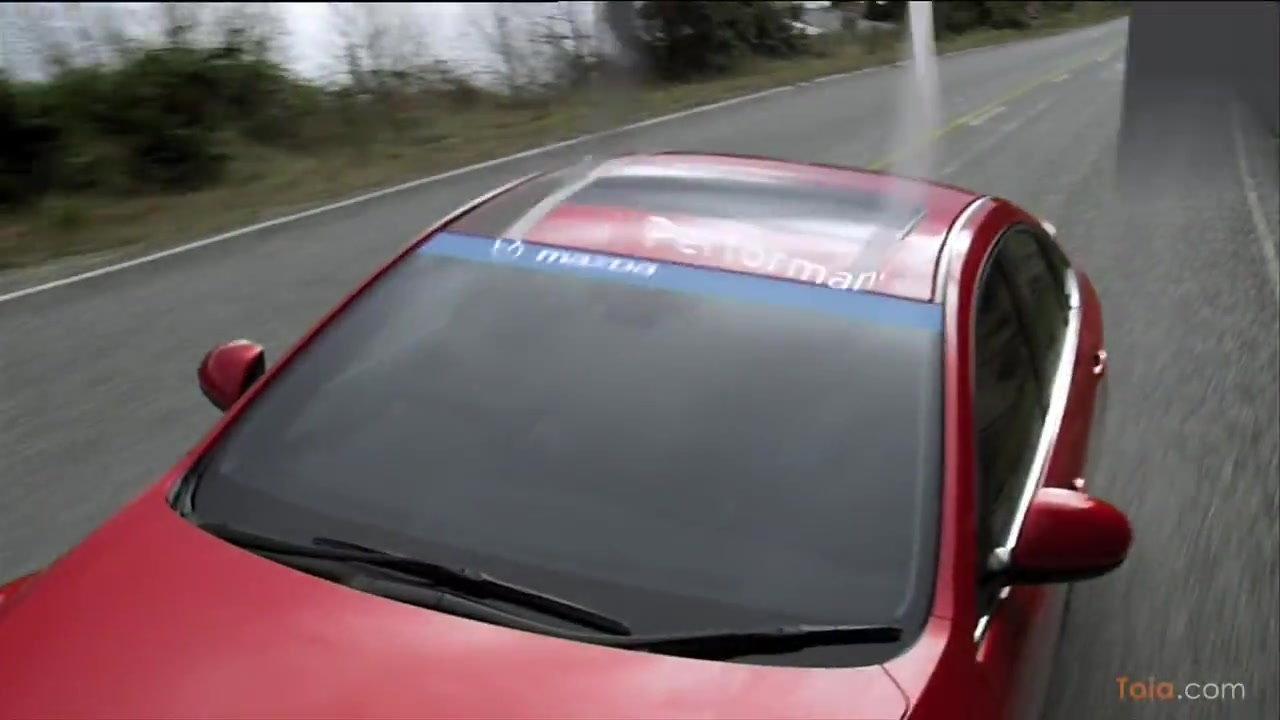car: (7, 150, 1110, 720)
